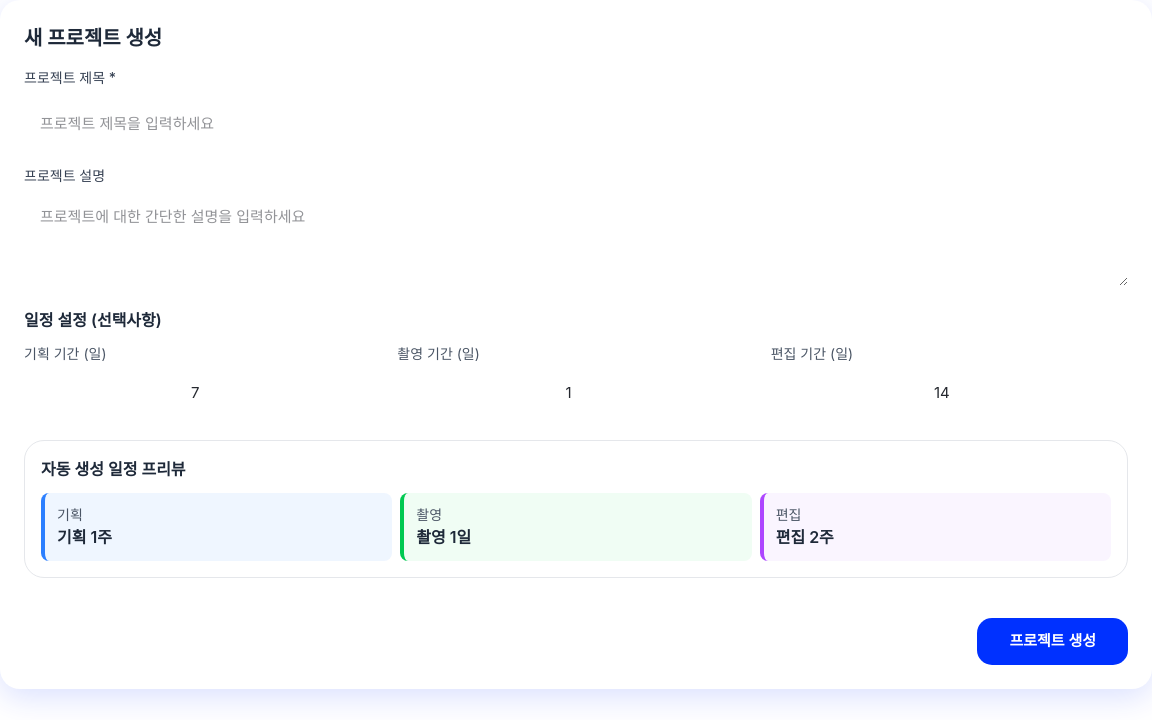
Test: ProjectForm - TDD Red Phase › 🔴 RED: 실패하는 테스트 작성 (컴포넌트 미구현) › 수동 일정 수정 시 프리뷰가 즉시 반영되어야 함
Note: FAIL: 실시간 프리뷰 업데이트 미구현
Replace the text in the number field labelled "기획 기간 (일)" with "10". click: (203, 392)
box: [24,368,381,416]
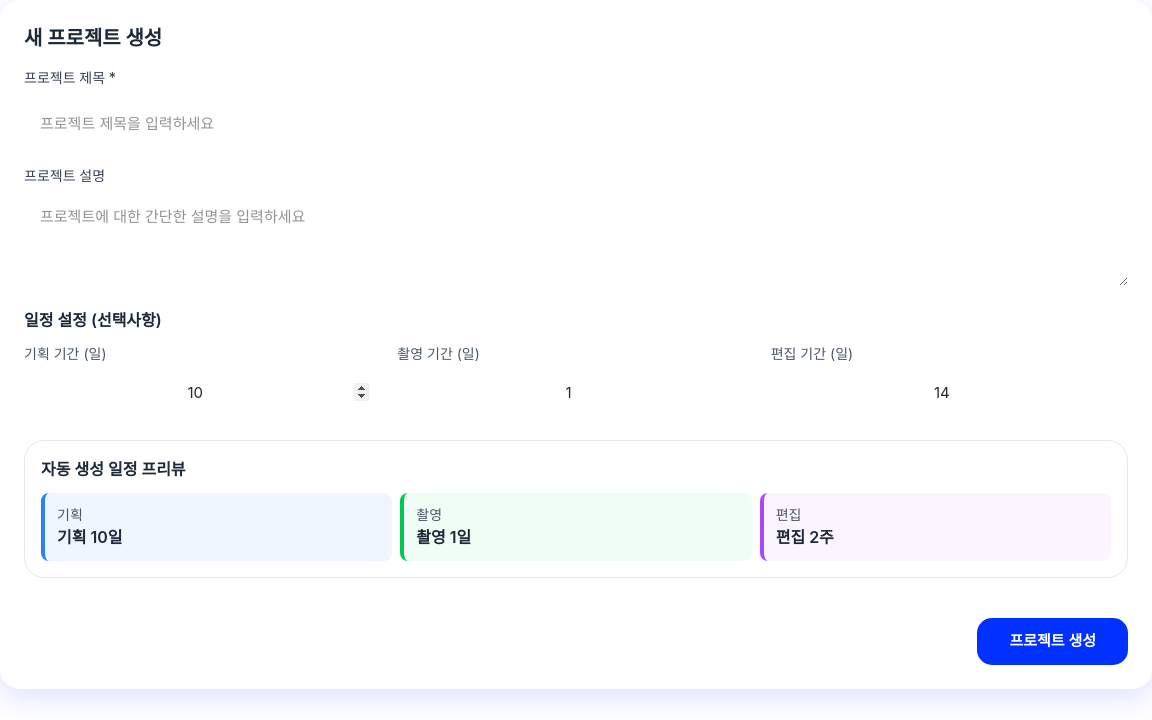
Now the text "기획 10일" is shown, box [57,527,122,547]
